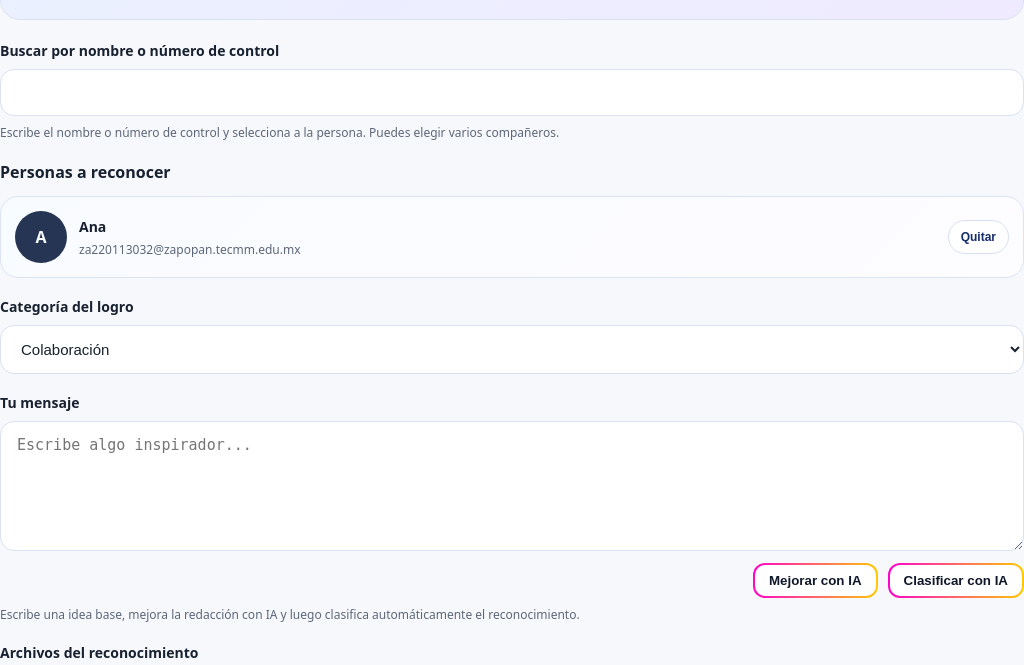
Test: shows a refresh failure without repeating a completed recognition
The width and height of the screenshot is (1024, 665).
Step 1. Type "Gracias por apoyar al equipo" into the text box with placeholder "Escribe algo inspirador..." → x=512, y=486, box [0,421,1023,551]
(page scrolled)
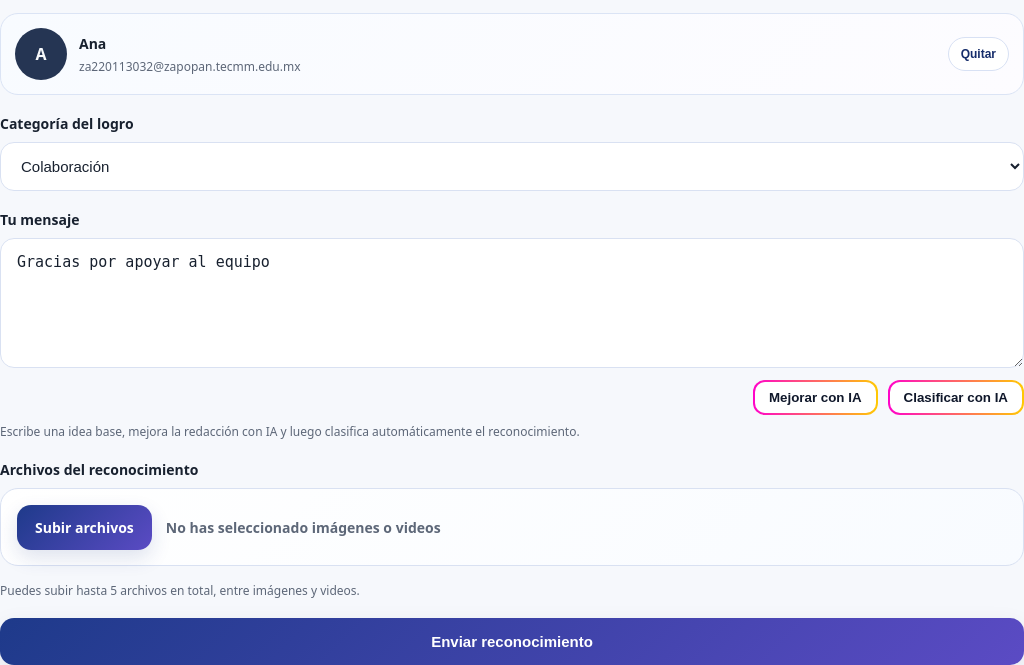
Step 2. Click the button "Enviar reconocimiento" → x=512, y=642, box [0,618,1023,664]
(page scrolled)
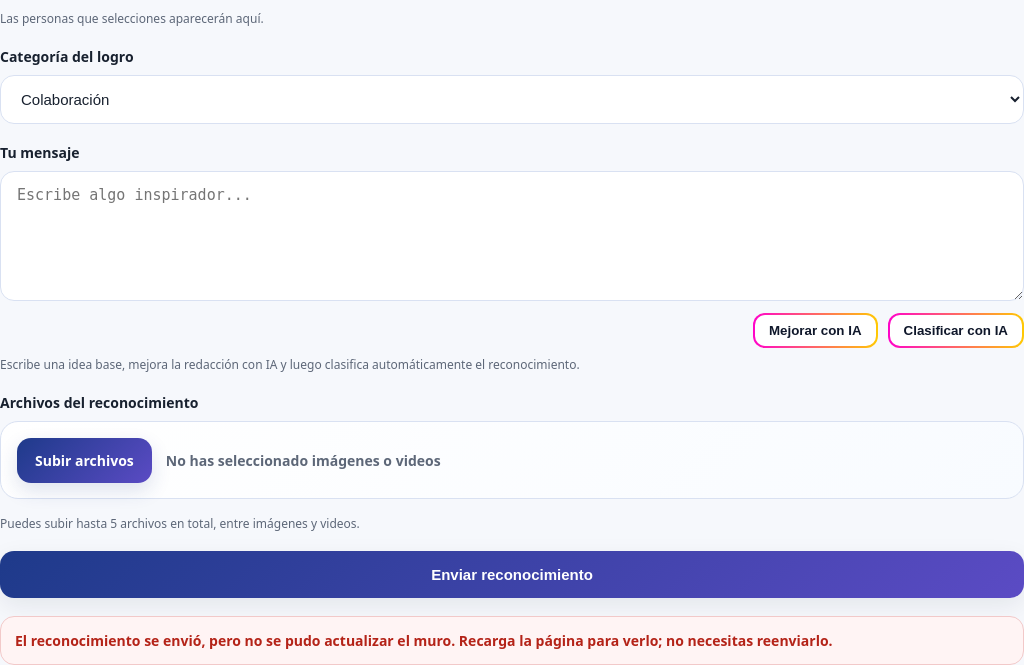
Result: the text "pero no se pudo actualizar el muro" is shown at [15,631,833,650]
